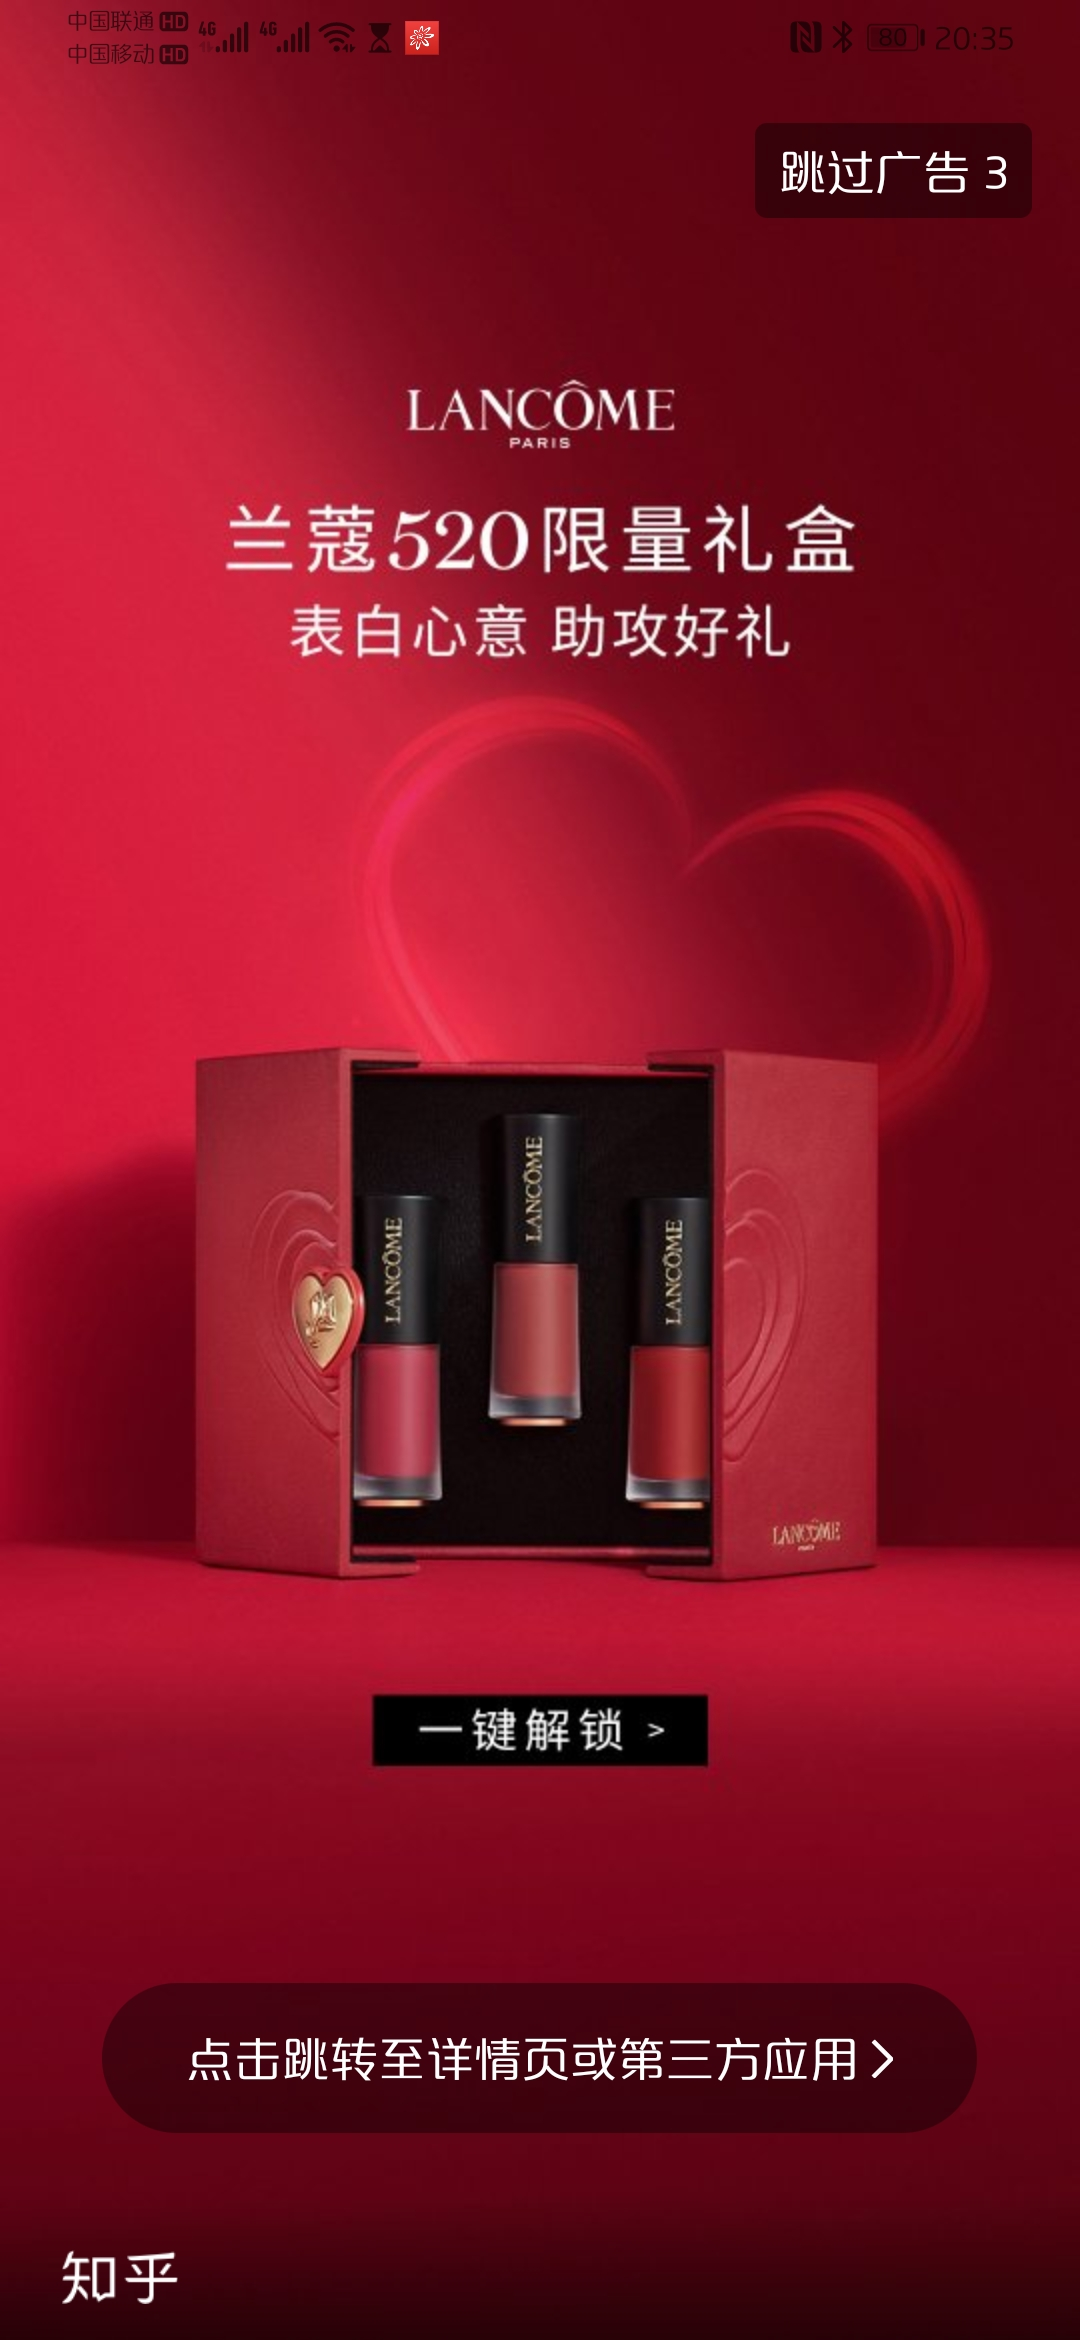skip: (755, 128, 1023, 215)
